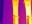Hotspot: (23, 0, 31, 23), (12, 0, 19, 23)
